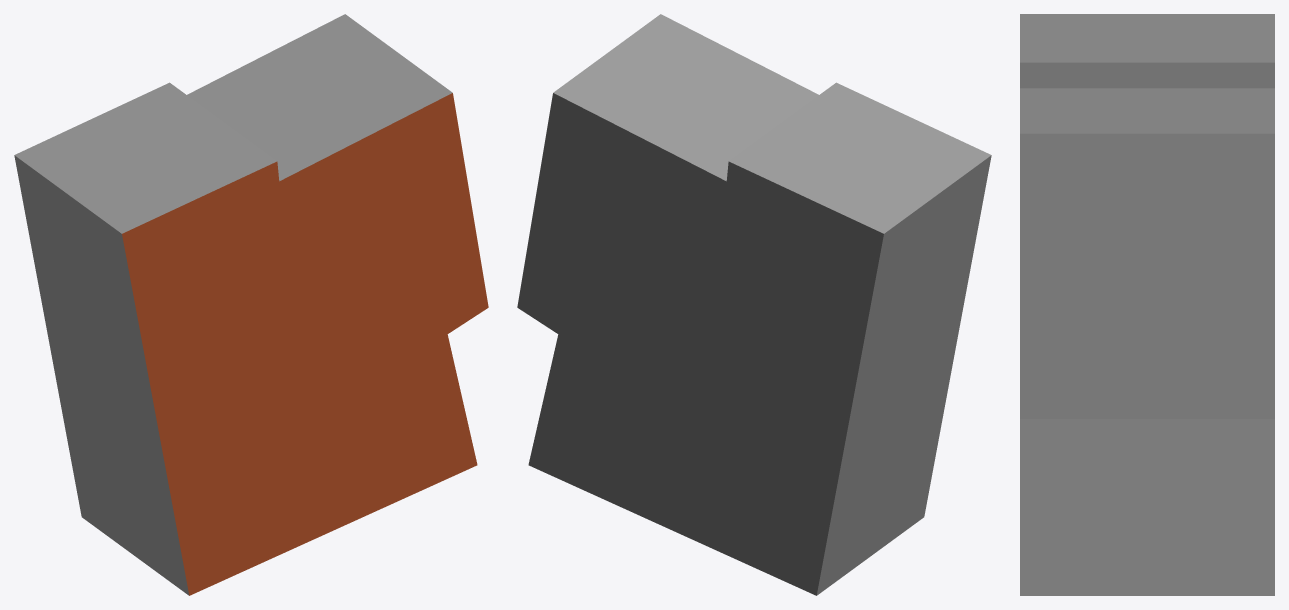
Rendered from construction_6982_assumed_A_Casa_h6m.obj.
3 renders of one model, left to right at view 1: azimuth 30°, elevation 25°; view 2: azimuth 150°, elevation 25°; view 3: azimuth 270°, elevation 25°, orthographic. The views are drawn at different scales.
Visible parts, largest first — view 1: construction_6982_assumed_A_Casa; view 2: construction_6982_assumed_A_Casa; view 3: construction_6982_assumed_A_Casa.
Boxes of the visible parts, box(x1,y1,x2,y2) form: construction_6982_assumed_A_Casa: box(14, 14, 488, 595); construction_6982_assumed_A_Casa: box(517, 14, 991, 595); construction_6982_assumed_A_Casa: box(1020, 14, 1274, 595).
Size of the model in its own units: 11.8 by 13.49 by 6.
